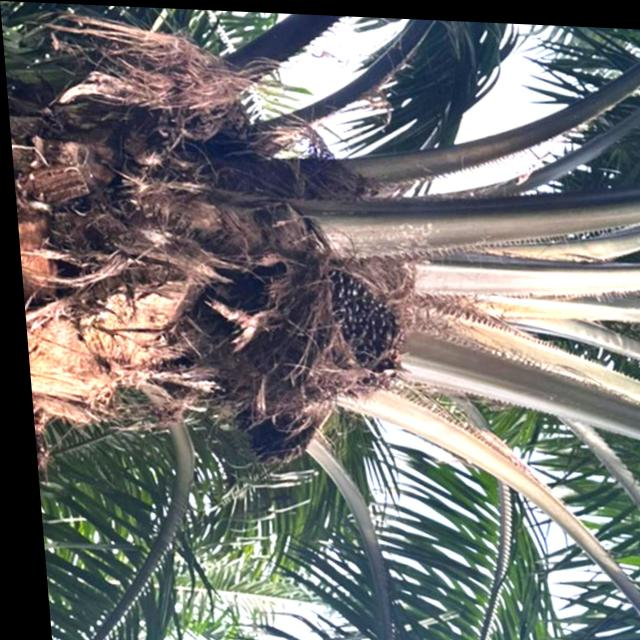ripe: (296, 252, 419, 414)
